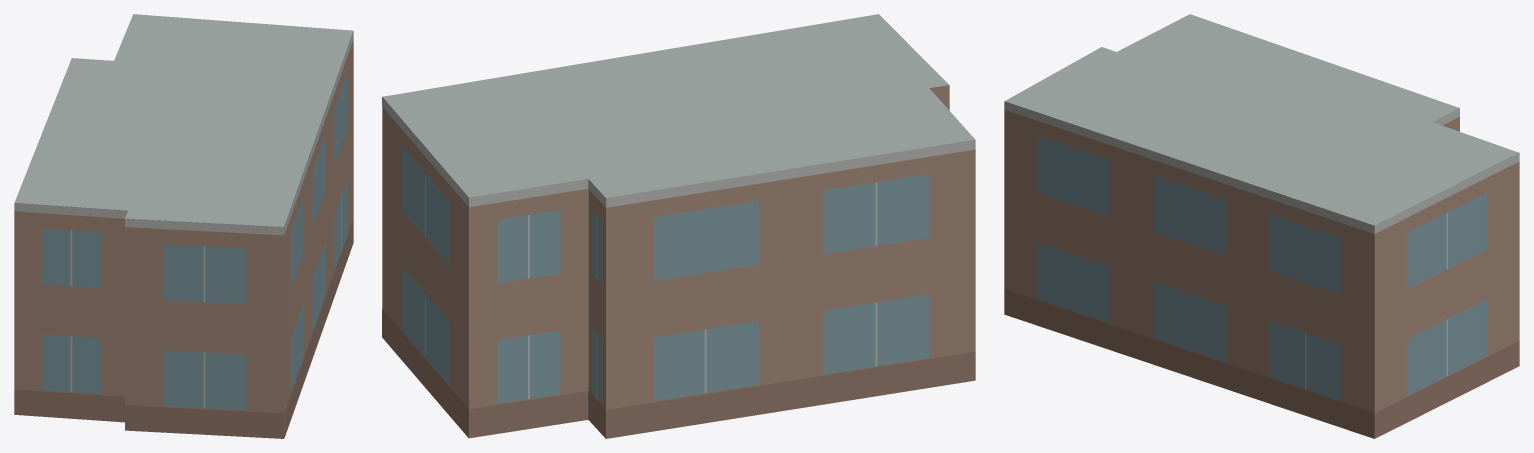
Rendered from survey-upis-32661813.glb.
3 renders of one model, left to right at view 1: azimuth 30°, elevation 25°; view 2: azimuth 150°, elevation 25°; view 3: azimuth 270°, elevation 25°, orthographic. The views are drawn at different scales.
Parts seen in each view (by area): view 1: survey-upis-32661813.tmp; view 2: survey-upis-32661813.tmp; view 3: survey-upis-32661813.tmp.
Boxes of the visible parts, x1,y1,x2,y2 form: survey-upis-32661813.tmp: (14, 14, 353, 438); survey-upis-32661813.tmp: (382, 14, 975, 438); survey-upis-32661813.tmp: (1004, 14, 1519, 438).
Size of the model in its own units: 12.99 by 6.1 by 13.36.
